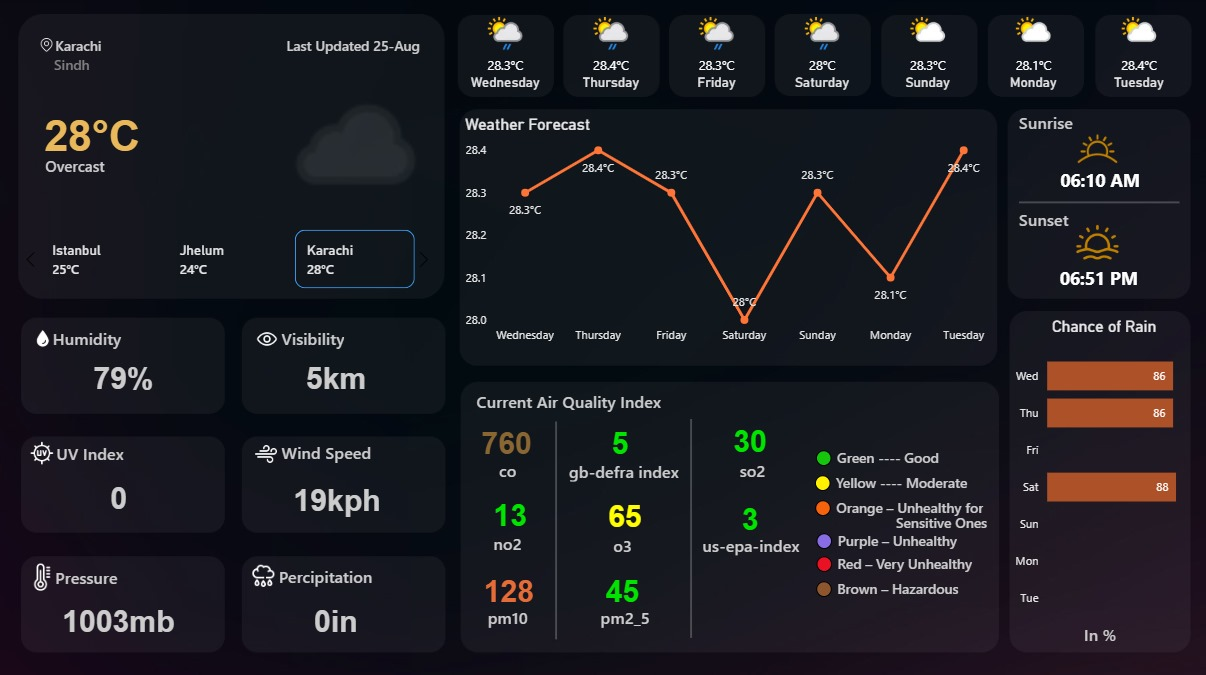

This screenshot's page, from the dashboard's own definition file:
{"tool":"powerbi","page":{"name":"Dashboard","canvas":[1280,720],"ordinal":0},"visuals":[{"type":"advancedSlicerVisual","fields":{"Values":["Location.location.name"]},"box":[19.2,240.1,447.3,72.7],"z":0},{"type":"shape","box":[59.9,12.8,182.4,72.7],"z":1000},{"type":"shape","box":[48.8,139.5,269,73.8],"z":2000},{"type":"shape","box":[305,12.8,182.4,72.7],"z":3000},{"type":"image","box":[38.6,35.7,24.3,25.7],"z":4000},{"type":"cardVisual","fields":{"Data":["Min(Current.current.condition.icon)"]},"box":[150,35.7,335.7,241.4],"z":5000},{"type":"image","box":[28.6,345.7,34.3,28.6],"z":6000},{"type":"image","box":[264.3,342.9,40,34.3],"z":7000},{"type":"shape","box":[57.1,322.9,182.9,72.9],"z":8000},{"type":"shape","box":[505.7,404.3,205.7,44.3],"z":9000},{"type":"image","box":[261.4,465.7,44.3,34.3],"z":10000},{"type":"shape","box":[61.4,445.7,182.9,72.9],"z":11000},{"type":"image","box":[15.7,464.3,58.6,35.7],"z":12000},{"type":"shape","box":[300,444.3,182.9,72.9],"z":13000},{"type":"image","box":[14.3,594.3,62.9,38.6],"z":14000},{"type":"shape","box":[297.1,575.7,182.9,72.9],"z":15000},{"type":"image","box":[257.1,592.9,45.7,38.6],"z":16000},{"type":"shape","box":[60,577.1,182.9,72.9],"z":17000},{"type":"card","fields":{"Values":["_Measures.Humidity"]},"box":[62.9,367.1,140,68.6],"z":18000},{"type":"card","fields":{"Values":["_Measures.Vis"]},"box":[287.1,367.1,140,68.6],"z":19000},{"type":"card","fields":{"Values":["Sum(Current.current.uv)"]},"box":[57.1,494.3,140,68.6],"z":20000},{"type":"card","fields":{"Values":["_Measures.wind_speed"]},"box":[272.9,497.1,171.4,68.6],"z":21000},{"type":"card","fields":{"Values":["_Measures.pressure"]},"box":[41.4,625.7,171.4,68.6],"z":22000},{"type":"card","fields":{"Values":["_Measures.Percip"]},"box":[271.4,625.7,171.4,68.6],"z":23000},{"type":"advancedSlicerVisual","fields":{"Values":["Forecast_day.day_name"]},"box":[480,7.1,790,104.3],"z":24000},{"type":"lineChart","title":"Weather Forecast","fields":{"Category":["Forecast_day.day_name"],"Y":["Sum(Forecast_day.forecast.forecastday.day.avgtemp_c)"]},"box":[488.6,122.9,570,251.4],"z":25000},{"type":"shape","box":[1081.4,117.1,182.9,27.1],"z":26000},{"type":"shape","box":[1081.4,172.2,171.4,38.6],"z":27000},{"type":"shape","box":[1080,275.2,171.4,38.6],"z":28000},{"type":"image","box":[1124.3,126.1,81.4,65.7],"z":29000},{"type":"shape","box":[1081.4,202.9,170,25.7],"z":30000},{"type":"image","box":[1135.7,230.9,57.1,54.3],"z":31000},{"type":"shape","box":[1081.2,219.6,192.9,27.1],"z":32000},{"type":"clusteredBarChart","title":"Chance of Rain","fields":{"Y":["Sum(Forecast_day.forecast.forecastday.day.daily_chance_of_rain)"],"Category":["Forecast_day.Sh_day_name"]},"box":[1070,337.1,204.3,335.7],"z":33000},{"type":"shape","box":[1075.7,660,182.9,27.1],"z":34000},{"type":"shape","box":[300,322.9,182.9,72.9],"z":35000},{"type":"card","title":"co","fields":{"Values":["Sum(Current.current.air_quality.co)"]},"box":[470.7,448.2,135.7,40],"z":36000},{"type":"shape","box":[448.4,487,182.9,25.7],"z":37000},{"type":"shape","box":[571,487.1,182.9,25.7],"z":38000},{"type":"shape","box":[447.8,564.9,182.9,25.7],"z":39000},{"type":"shape","box":[570.2,565.7,182.9,25.7],"z":40000},{"type":"shape","box":[447.8,642.9,182.9,25.7],"z":41000},{"type":"shape","box":[572.4,642.9,182.9,25.7],"z":42000},{"type":"shape","box":[707.6,486.9,182.9,25.7],"z":43000},{"type":"shape","box":[706,565.5,182.1,26.2],"z":44000},{"type":"shape","box":[575,447.6,31,231],"z":45000},{"type":"shape","box":[717.9,445.2,31,232.1],"z":46000},{"type":"shape","box":[849.9,462.5,161.7,47.7],"z":47000},{"type":"shape","box":[859.1,493,172.3,38.4],"z":48000},{"type":"shape","box":[828.6,527.5,250.5,23.9],"z":49000},{"type":"shape","box":[900.2,544.1,198.8,19],"z":50000},{"type":"shape","box":[814.5,561.8,250.5,23.9],"z":51000},{"type":"shape","box":[822.4,587,250.5,23.9],"z":52000},{"type":"shape","box":[58.3,53.6,182.1,32.1],"z":53000},{"type":"card","fields":{"Values":["_Measures.Curr_Temp"]},"box":[28.6,108.3,139.3,67.9],"z":54000},{"type":"card","title":"co","fields":{"Values":["Sum(Current.current.air_quality.no2)"]},"box":[473.8,525,135.7,39.3],"z":55000},{"type":"card","title":"co","fields":{"Values":["Sum(Current.current.air_quality.gb-defra-index)"]},"box":[591.1,448,135.2,39.8],"z":56000},{"type":"card","title":"co","fields":{"Values":["Sum(Current.current.air_quality.so2)"]},"box":[728.9,446.6,135.2,39.8],"z":57000},{"type":"card","title":"co","fields":{"Values":["Sum(Current.current.air_quality.o3)"]},"box":[596.4,526.2,135.2,39.8],"z":58000},{"type":"card","title":"co","fields":{"Values":["Sum(Current.current.air_quality.us-epa-index)"]},"box":[728.9,528.8,135.2,39.8],"z":59000},{"type":"card","title":"co","fields":{"Values":["Sum(Current.current.air_quality.pm10)"]},"box":[473.1,605.7,135.2,39.8],"z":60000},{"type":"card","title":"co","fields":{"Values":["Sum(Current.current.air_quality.pm2_5)"]},"box":[593.7,605.7,135.2,39.8],"z":61000},{"type":"shape","box":[815.8,613.5,249.2,23.9],"z":62000}]}

Visuals, with their boxes in screenshot pixels (x1, y1, x2, y2), scaled from the page's 1280x720 canvas onto the 1206x675 screenshot:
advancedSlicerVisual - Location.location.name: bbox=(18, 225, 440, 293)
shape: bbox=(56, 12, 228, 80)
shape: bbox=(46, 131, 299, 200)
shape: bbox=(287, 12, 459, 80)
image: bbox=(36, 33, 59, 58)
cardVisual - Min(Current.current.condition.icon): bbox=(141, 33, 458, 260)
image: bbox=(27, 324, 59, 351)
image: bbox=(249, 321, 287, 354)
shape: bbox=(54, 303, 226, 371)
shape: bbox=(476, 379, 670, 421)
image: bbox=(246, 437, 288, 469)
shape: bbox=(58, 418, 230, 486)
image: bbox=(15, 435, 70, 469)
shape: bbox=(283, 417, 455, 485)
image: bbox=(13, 557, 73, 593)
shape: bbox=(280, 540, 452, 608)
image: bbox=(242, 556, 285, 592)
shape: bbox=(57, 541, 229, 609)
card - _Measures.Humidity: bbox=(59, 344, 191, 408)
card - _Measures.Vis: bbox=(271, 344, 402, 408)
card - Sum(Current.current.uv): bbox=(54, 463, 186, 528)
card - _Measures.wind_speed: bbox=(257, 466, 419, 530)
card - _Measures.pressure: bbox=(39, 587, 200, 651)
card - _Measures.Percip: bbox=(256, 587, 417, 651)
advancedSlicerVisual - Forecast_day.day_name: bbox=(452, 7, 1197, 104)
"Weather Forecast" lineChart: bbox=(460, 115, 997, 351)
shape: bbox=(1019, 110, 1191, 135)
shape: bbox=(1019, 161, 1180, 198)
shape: bbox=(1018, 258, 1179, 294)
image: bbox=(1059, 118, 1136, 180)
shape: bbox=(1019, 190, 1179, 214)
image: bbox=(1070, 216, 1124, 267)
shape: bbox=(1019, 206, 1200, 231)
"Chance of Rain" clusteredBarChart: bbox=(1008, 316, 1201, 631)
shape: bbox=(1014, 619, 1186, 644)
shape: bbox=(283, 303, 455, 371)
"co" card: bbox=(443, 420, 571, 458)
shape: bbox=(422, 457, 595, 481)
shape: bbox=(538, 457, 710, 481)
shape: bbox=(422, 530, 594, 554)
shape: bbox=(537, 530, 710, 554)
shape: bbox=(422, 603, 594, 627)
shape: bbox=(539, 603, 712, 627)
shape: bbox=(667, 456, 839, 481)
shape: bbox=(665, 530, 837, 555)
shape: bbox=(542, 420, 571, 636)
shape: bbox=(676, 417, 706, 635)
shape: bbox=(801, 434, 953, 478)
shape: bbox=(809, 462, 972, 498)
shape: bbox=(781, 495, 1017, 517)
shape: bbox=(848, 510, 1035, 528)
shape: bbox=(767, 527, 1003, 549)
shape: bbox=(775, 550, 1011, 573)
shape: bbox=(55, 50, 227, 80)
card - _Measures.Curr_Temp: bbox=(27, 102, 158, 165)
"co" card: bbox=(446, 492, 574, 529)
"co" card: bbox=(557, 420, 684, 457)
"co" card: bbox=(687, 419, 814, 456)
"co" card: bbox=(562, 493, 689, 531)
"co" card: bbox=(687, 496, 814, 533)
"co" card: bbox=(446, 568, 573, 605)
"co" card: bbox=(559, 568, 687, 605)
shape: bbox=(769, 575, 1003, 598)
